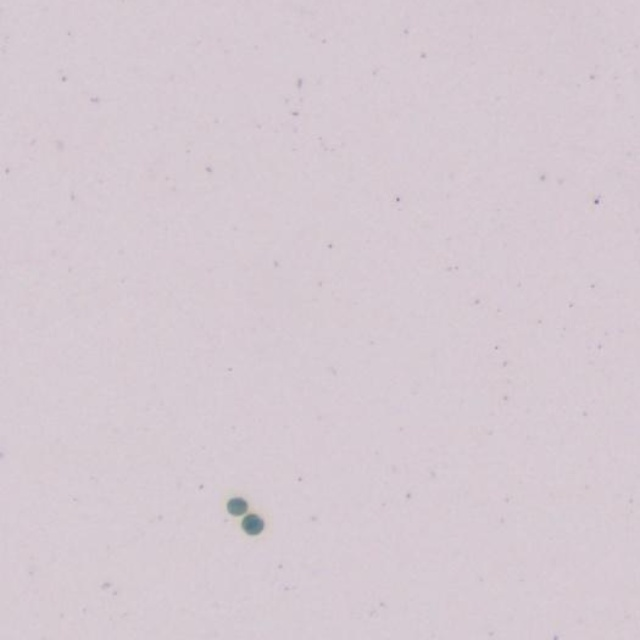non_viable: (241, 513, 263, 534), (227, 497, 245, 514)
